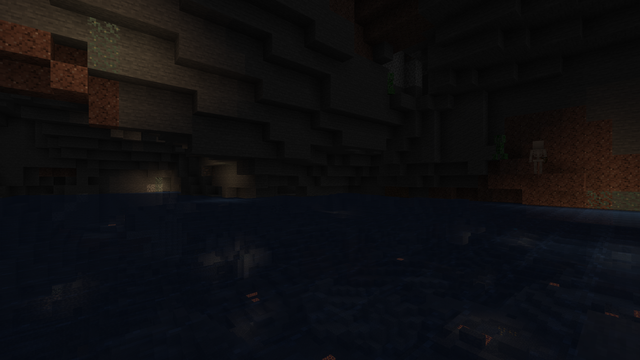creepers: (493, 133, 506, 159), (387, 70, 395, 94)
squelettes: (530, 140, 544, 173)
